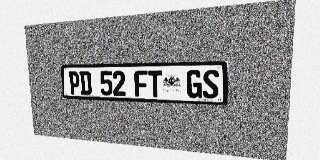2: (112, 71, 126, 96)
5: (100, 71, 113, 96)
D: (79, 71, 92, 95)
F: (134, 70, 148, 97)
G: (186, 70, 202, 98)
P: (68, 71, 80, 95)
S: (203, 70, 219, 99)
T: (148, 70, 162, 97)
